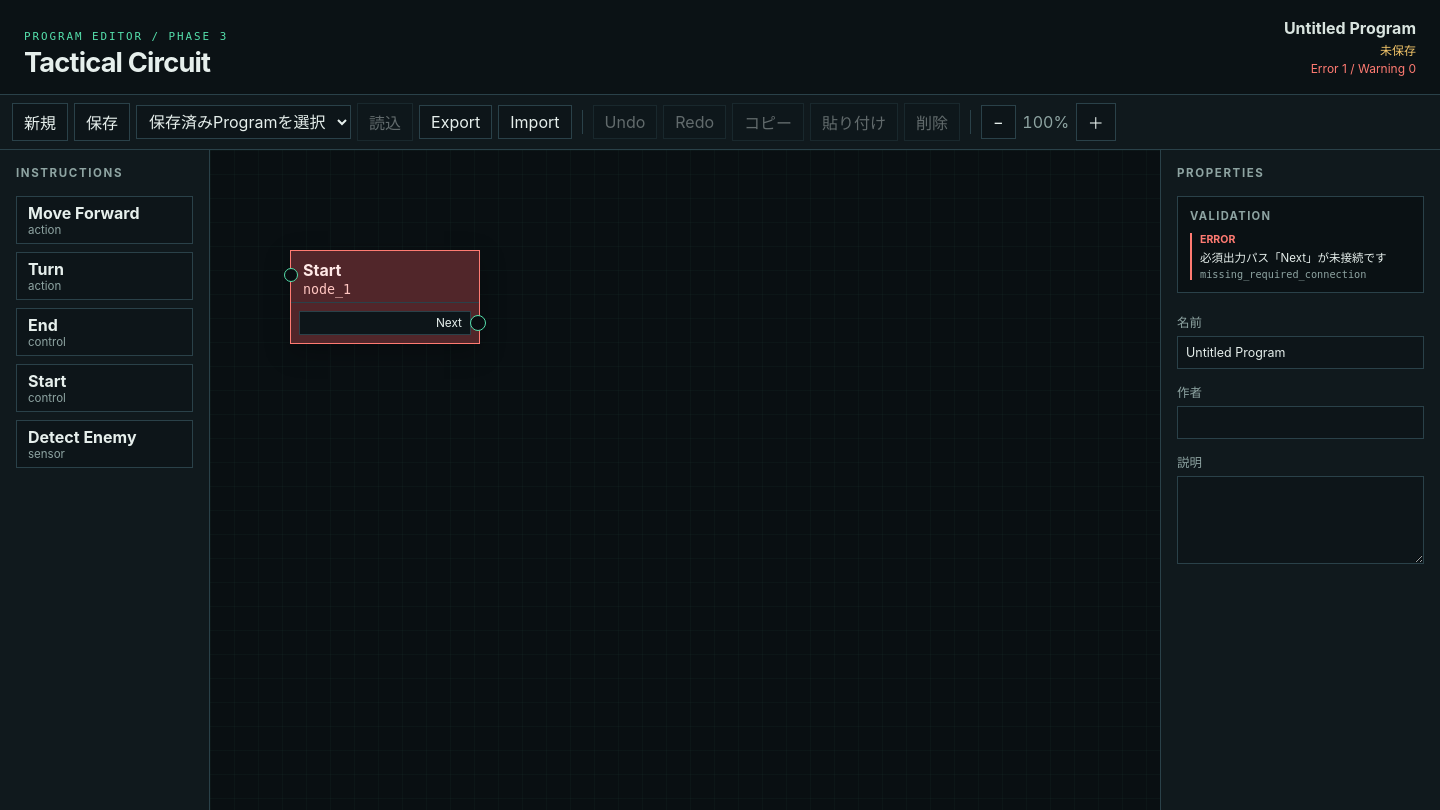
it: ProgramEditor › 入力欄の編集中も保存ショートカットでlocalStorageへ保存する
Step 1. Replace the text in the field labelled "名前" with "Ctrl Saved" → (1300, 352), box [1177,336,1424,369]
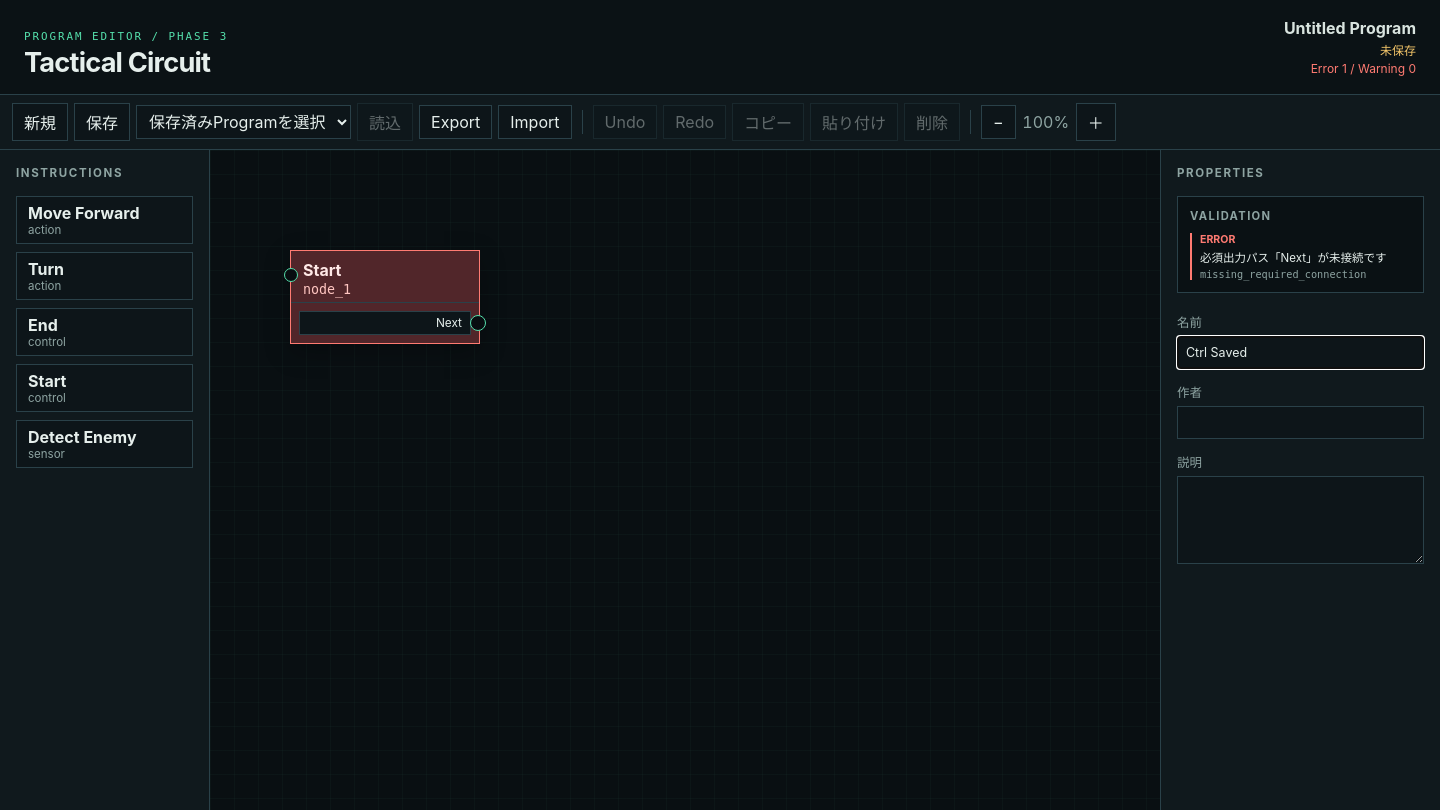
Step 2. Type keys "{Control>}s{/Control}"
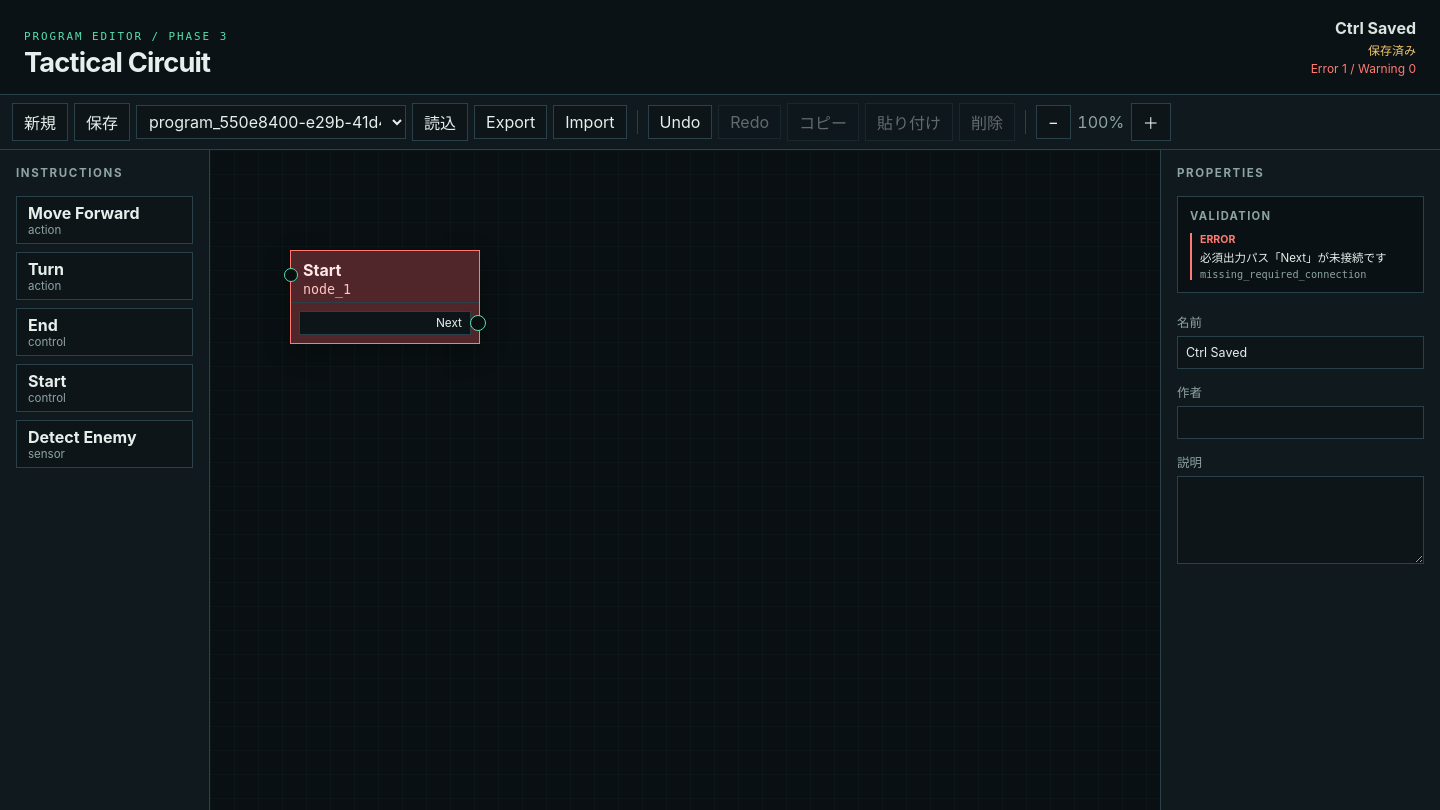
Check: the text "Ctrl Saved" is shown, box [1335,18,1416,38]
Step 3. Replace the text in the field labelled "名前" with "Meta Saved" → (1300, 352), box [1177,336,1424,369]
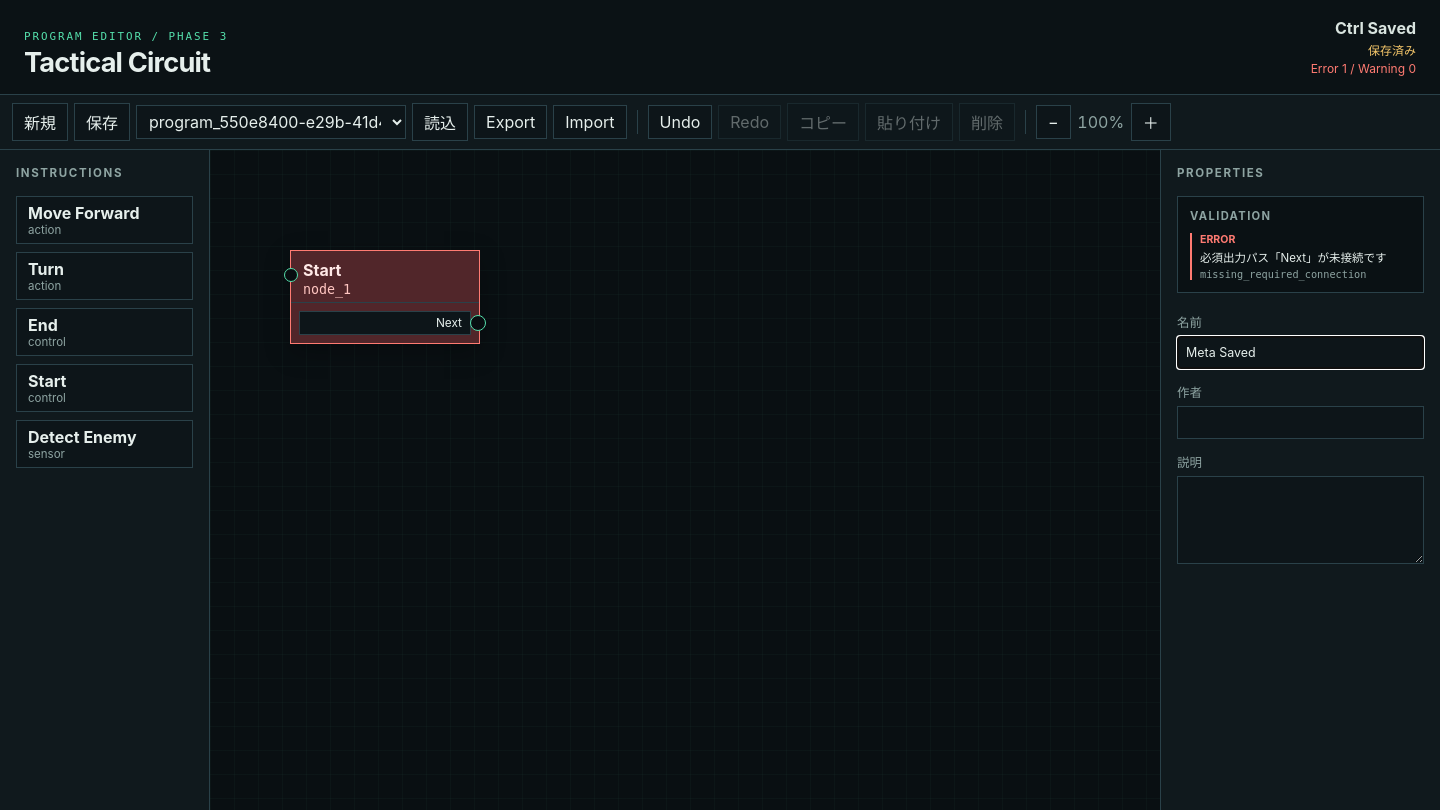
Step 4. Type keys "{Meta>}s{/Meta}"
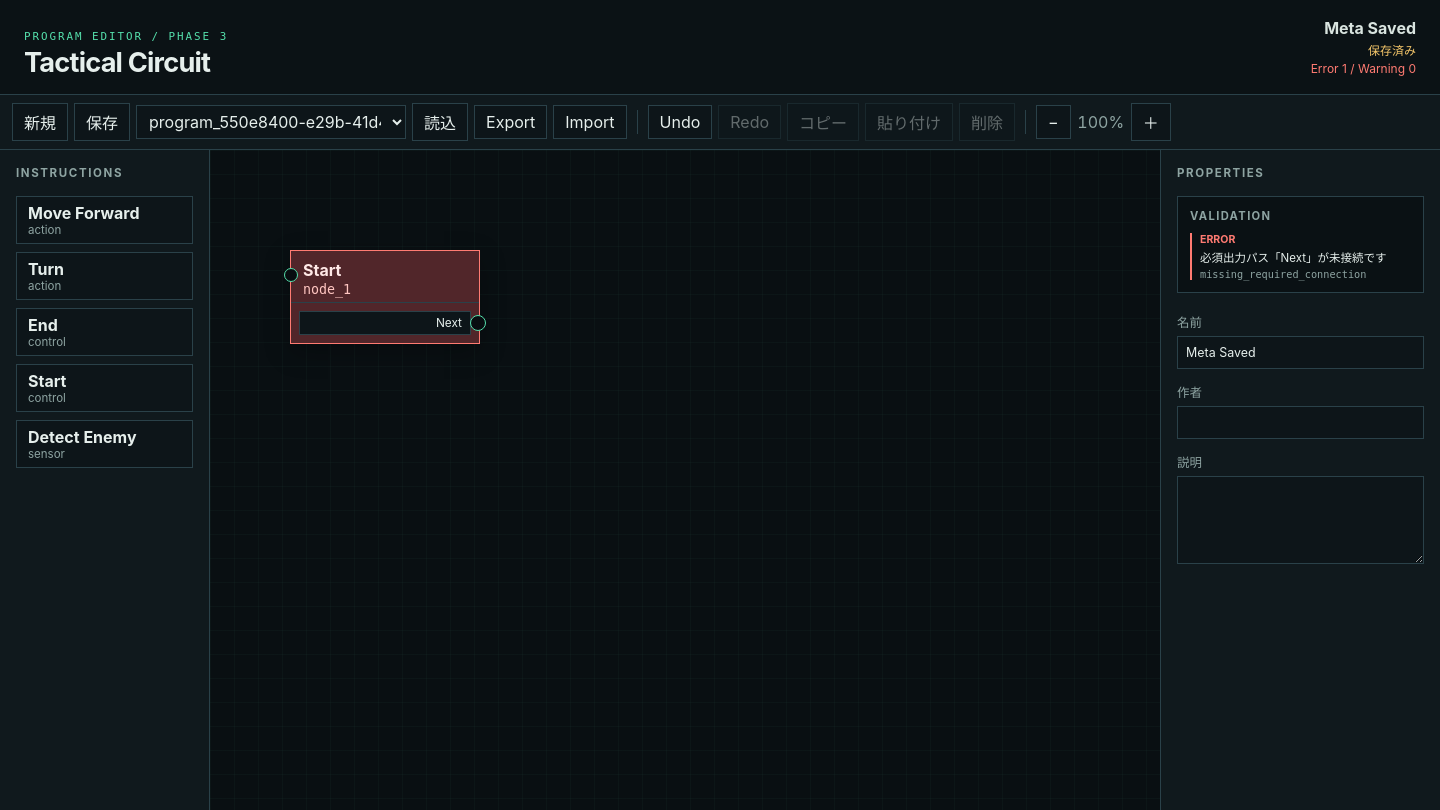
Check: the text "Meta Saved" is shown, box [1311,18,1416,38]
